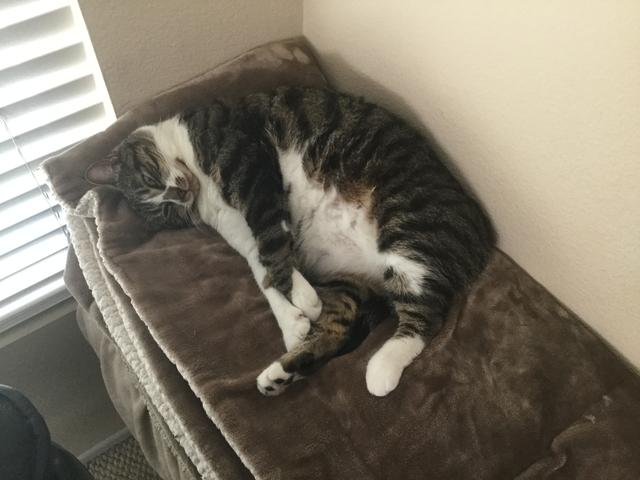playdoh: (82, 86, 502, 401)
